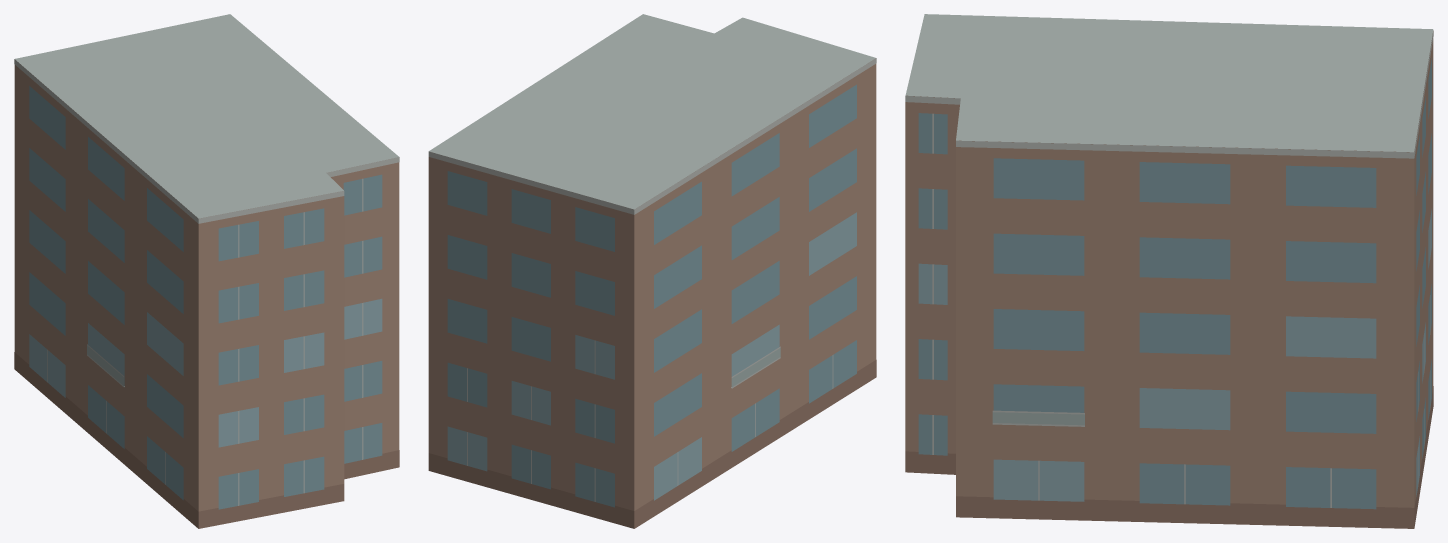
Rendered from survey-upis-32761279.glb.
3 renders of one model, left to right at view 1: azimuth 30°, elevation 25°; view 2: azimuth 150°, elevation 25°; view 3: azimuth 270°, elevation 25°, orthographic. The views are drawn at different scales.
Visible parts, largest first — view 1: survey-upis-32761279.tmp; view 2: survey-upis-32761279.tmp; view 3: survey-upis-32761279.tmp.
Part boxes in pixels (<box>): survey-upis-32761279.tmp: <box>14,14,399,528</box>; survey-upis-32761279.tmp: <box>428,14,876,528</box>; survey-upis-32761279.tmp: <box>905,14,1433,528</box>.
Size of the model in its own units: 11.34 by 14.4 by 18.31.
